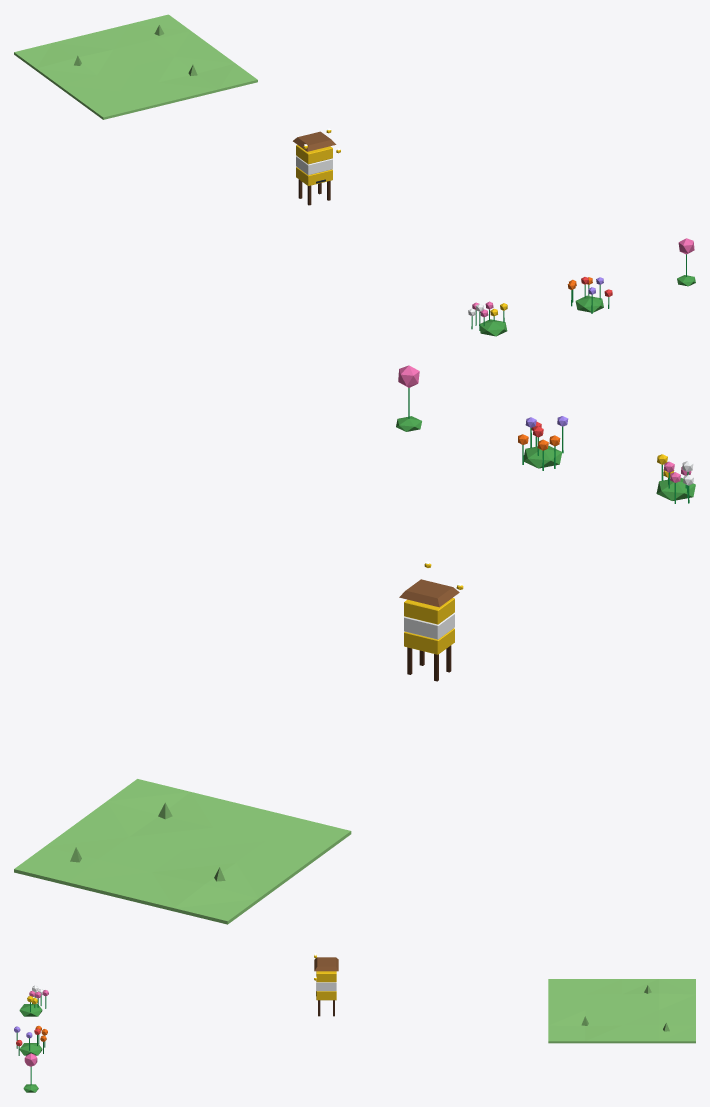
Rendered from kit_taman_v001.glb.
The picture shows the model from 3 angles, top to bottom: view 1: azimuth 30°, elevation 25°; view 2: azimuth 150°, elevation 25°; view 3: azimuth 270°, elevation 25°; orthographic projection. The views are drawn at different scales.
Visible parts, largest first — view 1: lantai_taman, Sarang_Lebah, Bunga_A, Bunga_B; view 2: lantai_taman, Sarang_Lebah, Bunga_B, Bunga_A; view 3: lantai_taman, Sarang_Lebah, Bunga_B, Bunga_A, Bunga_C.
Boxes of the visible parts, left/top/right/bottom form: lantai_taman: left=14, top=14, right=257, bottom=119; Sarang_Lebah: left=293, top=128, right=340, bottom=205; Bunga_A: left=468, top=301, right=507, bottom=336; Bunga_B: left=567, top=277, right=612, bottom=313; lantai_taman: left=14, top=779, right=351, bottom=924; Sarang_Lebah: left=399, top=561, right=463, bottom=681; Bunga_B: left=518, top=416, right=568, bottom=470; Bunga_A: left=656, top=454, right=695, bottom=503; lantai_taman: left=548, top=979, right=695, bottom=1043; Sarang_Lebah: left=314, top=953, right=338, bottom=1016; Bunga_B: left=14, top=1025, right=47, bottom=1055; Bunga_A: left=19, top=985, right=48, bottom=1016; Bunga_C: left=23, top=1053, right=38, bottom=1092.
Bounding box in the file's own units: 7.21 × 1.9 × 18.46.
